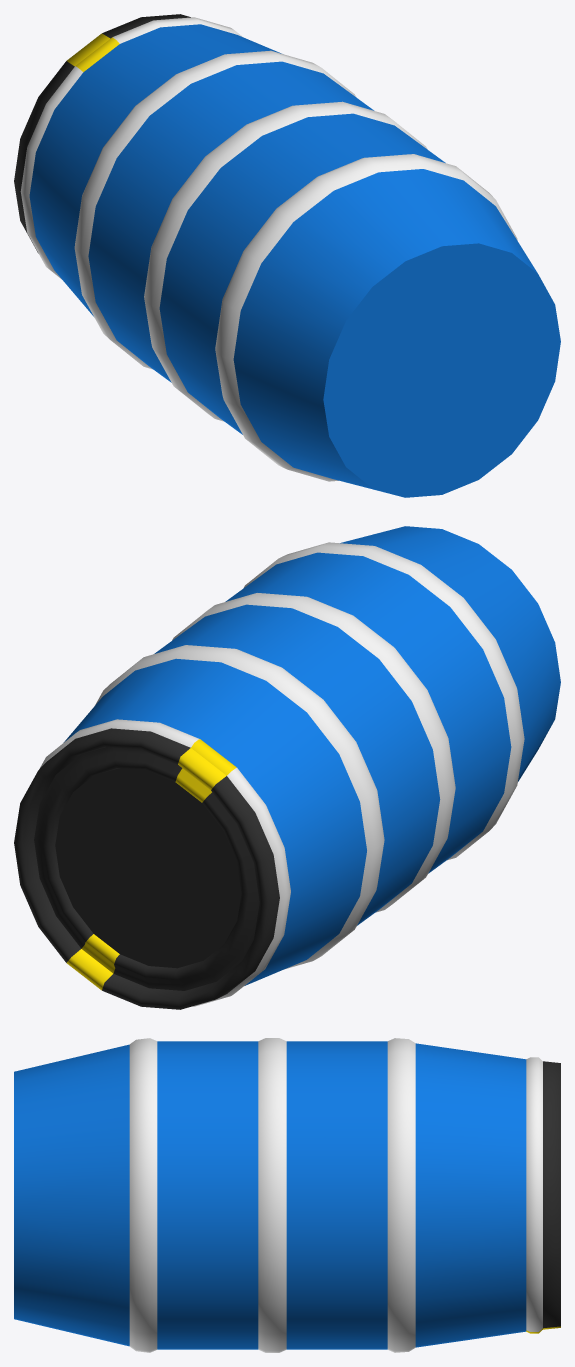
File: bar1.obj
The picture shows the model from 3 angles, top to bottom: view 1: azimuth 30°, elevation 25°; view 2: azimuth 150°, elevation 25°; view 3: azimuth 270°, elevation 25°; orthographic projection. The views are drawn at different scales.
Visible parts, largest first — view 1: Cylinder2; view 2: Cylinder2; view 3: Cylinder2.
Part boxes in pixels (x1=…): Cylinder2: x1=14, y1=14, x2=560, y2=497; Cylinder2: x1=14, y1=526, x2=560, y2=1009; Cylinder2: x1=14, y1=1038, x2=560, y2=1352.
Size of the model in its own units: 2.5 by 2.5 by 4.31.
